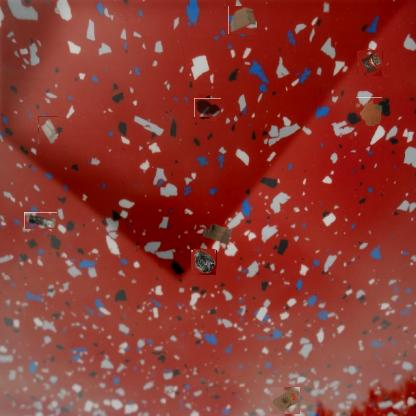dirty: (270, 388, 300, 416), (229, 6, 257, 35), (202, 222, 232, 246), (358, 50, 382, 76), (191, 250, 217, 274), (24, 212, 57, 229), (38, 116, 58, 144)
liquid: (356, 97, 382, 126), (196, 96, 219, 119)
